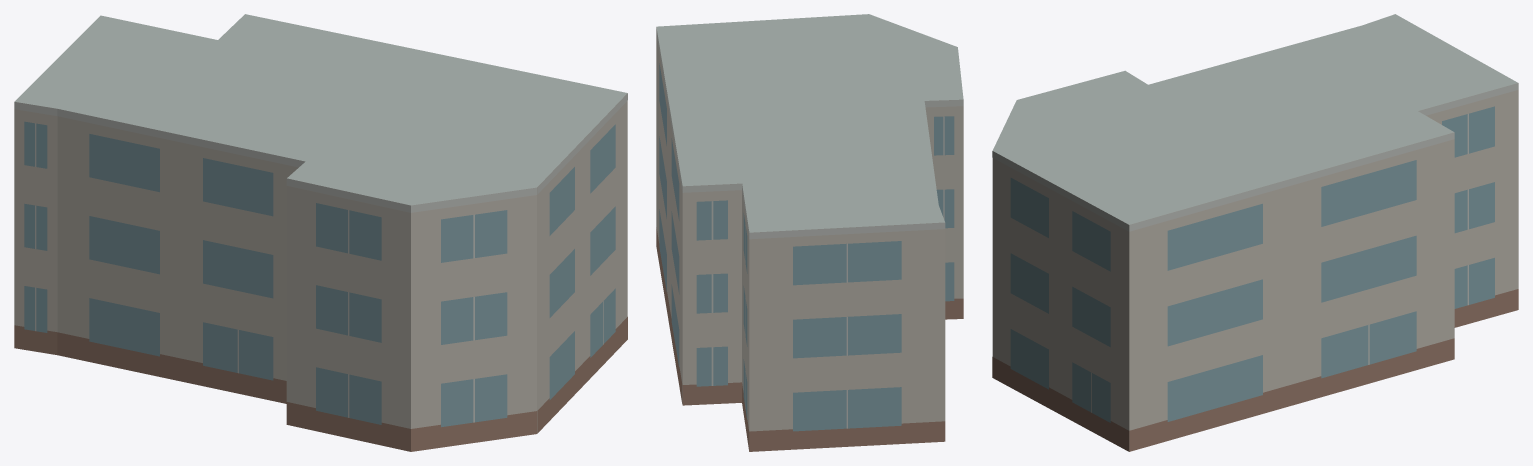
The model's file is survey-upis-33028287.glb.
The picture shows the model from 3 angles, left to right: view 1: azimuth 30°, elevation 25°; view 2: azimuth 150°, elevation 25°; view 3: azimuth 270°, elevation 25°; orthographic projection. The views are drawn at different scales.
Parts seen in each view (by area): view 1: survey-upis-33028287.tmp; view 2: survey-upis-33028287.tmp; view 3: survey-upis-33028287.tmp.
Boxes of the visible parts, x1,y1,x2,y2 form: survey-upis-33028287.tmp: (14, 14, 627, 451); survey-upis-33028287.tmp: (656, 14, 963, 451); survey-upis-33028287.tmp: (992, 14, 1518, 451).
Size of the model in its own units: 16.15 by 8.1 by 17.02.
